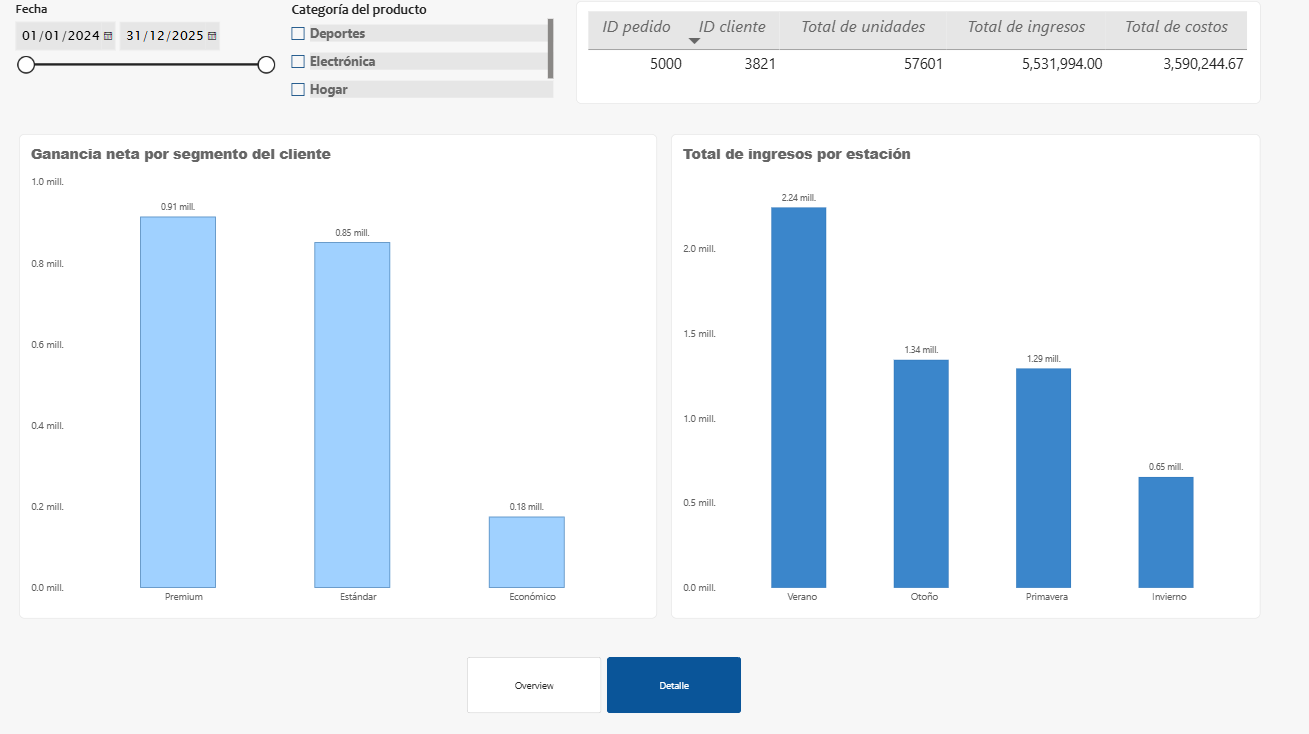

The page's visual inventory and layout, read from the dashboard file:
{"tool":"powerbi","page":{"name":"Detalle","canvas":[1920,1080],"ordinal":1},"visuals":[{"type":"pageNavigator","box":[682.9,961.4,400,82.9],"z":0},{"type":"slicer","fields":{"Values":["Andes_Retail_Group_2024_2025.Fecha_Pedido"]},"box":[15.7,4.3,390,150],"z":1000},{"type":"slicer","fields":{"Values":["Andes_Retail_Group_2024_2025.Categoría_Producto"]},"box":[418.6,4.3,390,145.7],"z":2000},{"type":"clusteredColumnChart","title":"Total de ingresos por estación","fields":{"Category":["Andes_Retail_Group_2024_2025.Estación"],"Y":["Andes_Retail_Group_2024_2025.Total_Ingresos"]},"box":[980,198.6,860,707.1],"z":3000},{"type":"clusteredColumnChart","title":"Ganancia neta por segmento del cliente","fields":{"Category":["Andes_Retail_Group_2024_2025.Segmento_Cliente"],"Y":["Andes_Retail_Group_2024_2025.Ganancia_Neta"]},"box":[28.6,198.6,931.4,707.1],"z":4000},{"type":"tableEx","fields":{"Values":["CountNonNull(Andes_Retail_Group_2024_2025.ID_Pedido)","Andes_Retail_Group_2024_2025.ID_Cliente","Andes_Retail_Group_2024_2025.Total_Unidades","Andes_Retail_Group_2024_2025.Total_Ingresos","Andes_Retail_Group_2024_2025.Total_Costos"]},"box":[841.4,4.3,998.6,150],"z":5000}]}

Visuals, with their boxes in screenshot pixels (x1, y1, x2, y2), scaled from the page's 1920x1080 canvas onto the 1309x734 screenshot:
pageNavigator: left=466, top=653, right=738, bottom=710
slicer - Andes_Retail_Group_2024_2025.Fecha_Pedido: left=11, top=3, right=277, bottom=105
slicer - Andes_Retail_Group_2024_2025.Categoría_Producto: left=285, top=3, right=551, bottom=102
"Total de ingresos por estación" clusteredColumnChart: left=668, top=135, right=1254, bottom=616
"Ganancia neta por segmento del cliente" clusteredColumnChart: left=19, top=135, right=654, bottom=616
tableEx - CountNonNull(Andes_Retail_Group_2024_2025.ID_Pedido) x Andes_Retail_Group_2024_2025.ID_Cliente: left=574, top=3, right=1254, bottom=105
